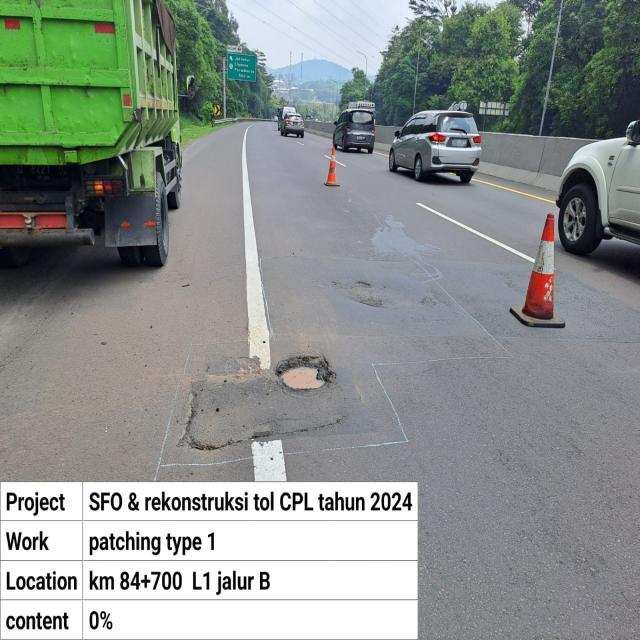Buraco: (273, 353, 339, 394)
